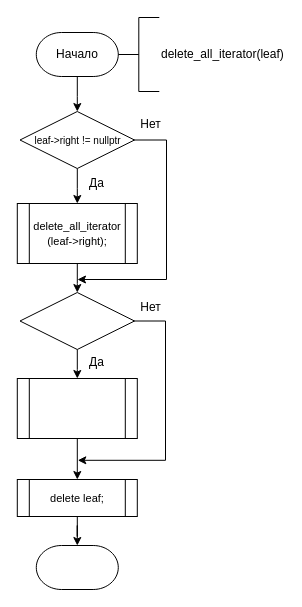
This 302x607 diagram has some shape labels left out. Each missing label, with the box of its shape:
delete_all_iterator (leaf->left);: (16, 378, 137, 438)
leaf->left != nullptr: (19, 292, 134, 350)
Конец: (35, 544, 118, 590)
